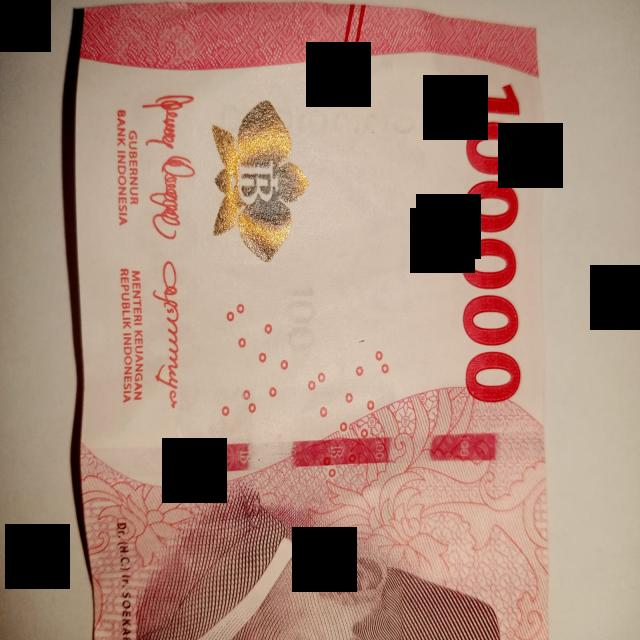seratusribu rupiah: (64, 3, 548, 638)
